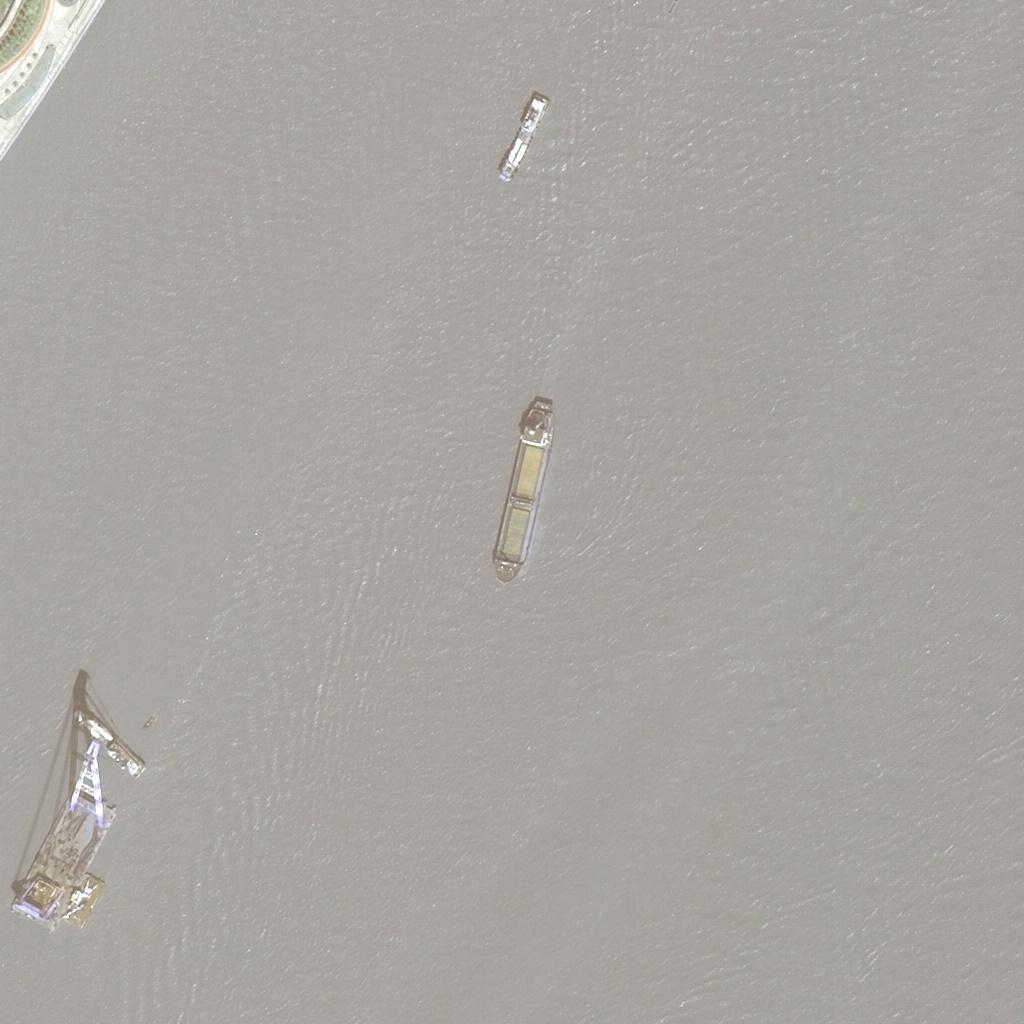ship: (490, 392, 554, 584), (501, 57, 547, 148)
